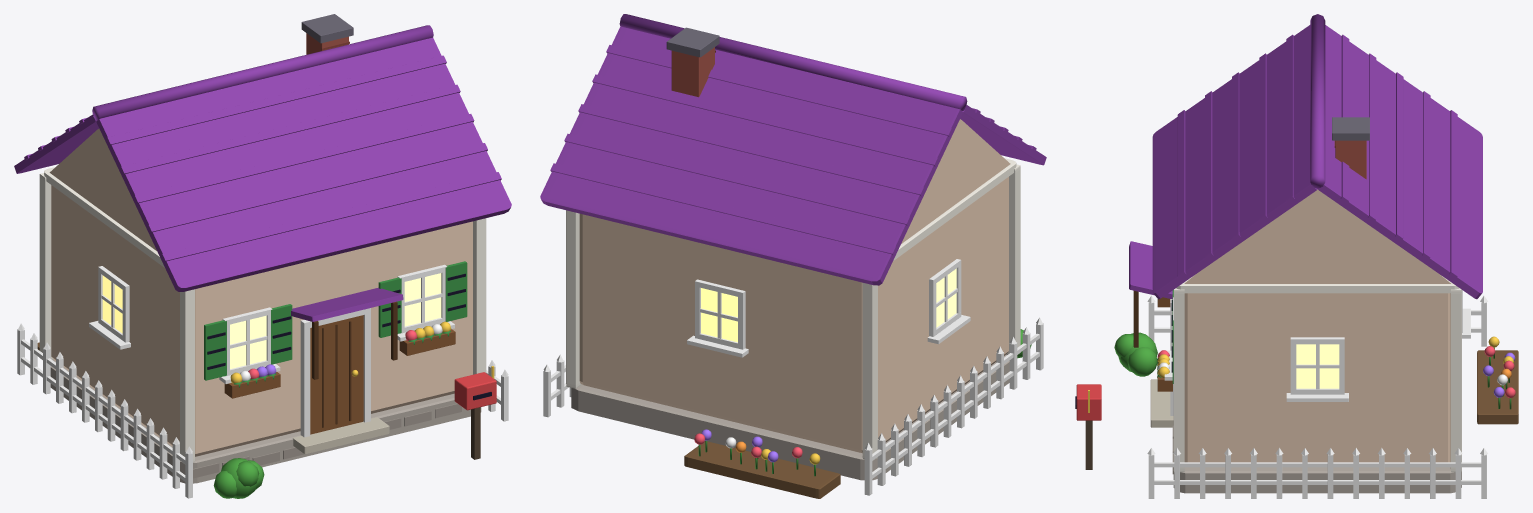
Rendered from domek3.glb.
3 views of the same model, side by side, from view 1: azimuth 30°, elevation 25°; view 2: azimuth 150°, elevation 25°; view 3: azimuth 270°, elevation 25° (orthographic). The views are drawn at different scales.
Visible parts, largest first — view 1: domek3; view 2: domek3; view 3: domek3.
Part boxes in pixels (x1,y1,x2,y2): domek3: (14,14,511,498); domek3: (540,14,1046,498); domek3: (1075,14,1518,498).
Size of the model in its own units: 5.54 by 5.43 by 6.4.
Materials: 2 (2 with a texture image).
